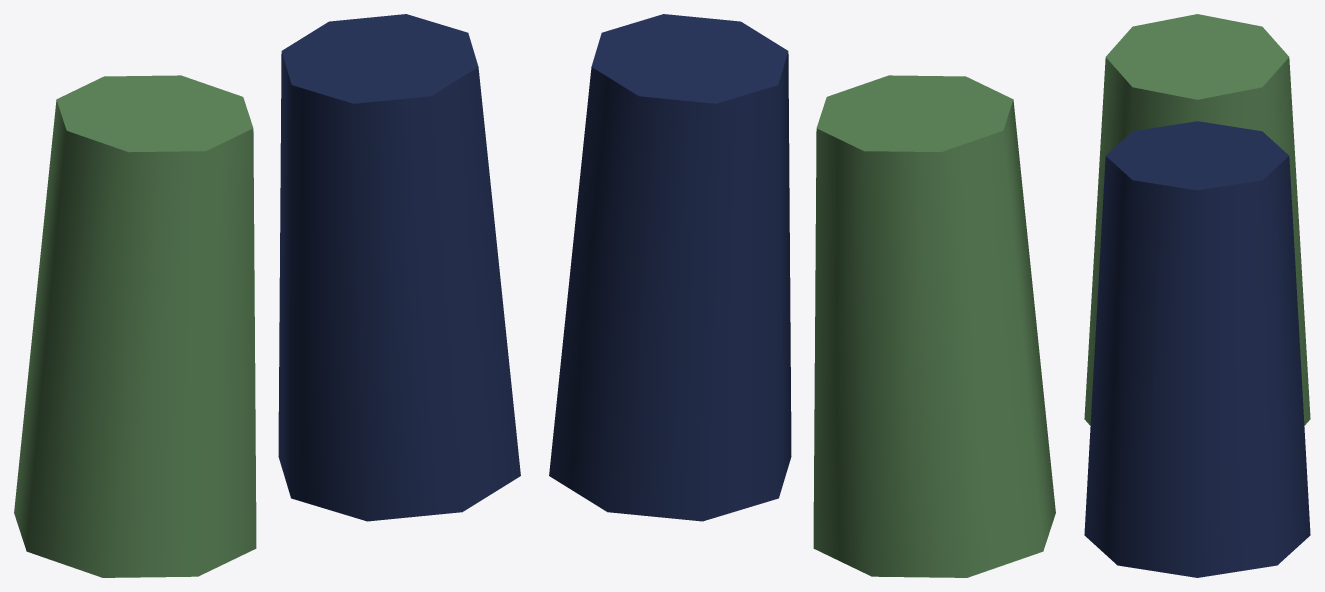
The model's file is legs.glb.
3 renders of one model, left to right at view 1: azimuth 30°, elevation 25°; view 2: azimuth 150°, elevation 25°; view 3: azimuth 270°, elevation 25°, orthographic. The views are drawn at different scales.
Parts seen in each view (by area): view 1: greave_-1, greave_1; view 2: greave_-1, greave_1; view 3: greave_1, greave_-1.
Part boxes in pixels (x1,y1,x2,y2): greave_-1: (14, 75, 256, 577); greave_1: (278, 14, 520, 521); greave_-1: (813, 75, 1055, 577); greave_1: (549, 14, 791, 521); greave_1: (1084, 121, 1310, 577); greave_-1: (1084, 14, 1310, 425).
Bounding box in the file's own units: 0.7086 × 0.5938 × 0.32.
